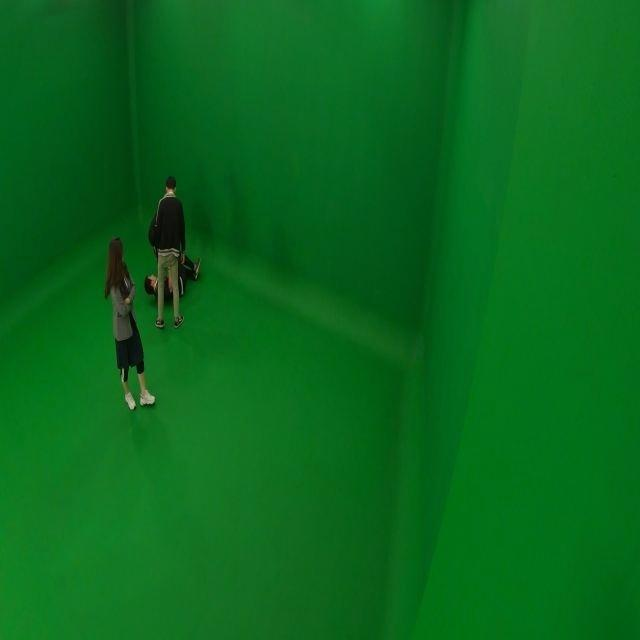fight: (146, 175, 199, 328)
non-fight: (103, 236, 151, 412)
